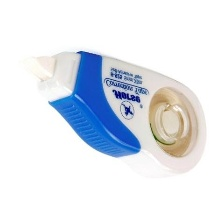correction_fluid: (18, 46, 208, 180)
